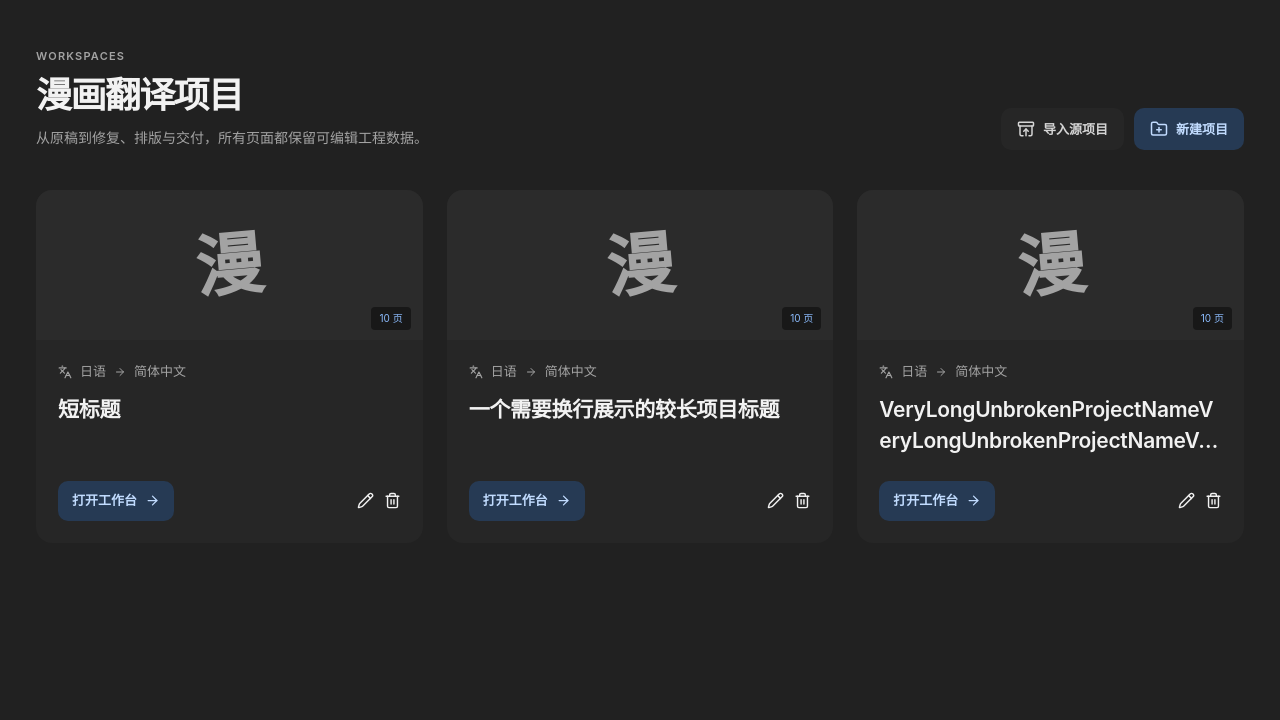
Scenario: project details › keeps the form and its draft when creating fails
Expected: the heading "短标题" is shown, [58, 396, 120, 422]
Click the button "新建项目" at (1189, 129), box [1134, 108, 1244, 150]
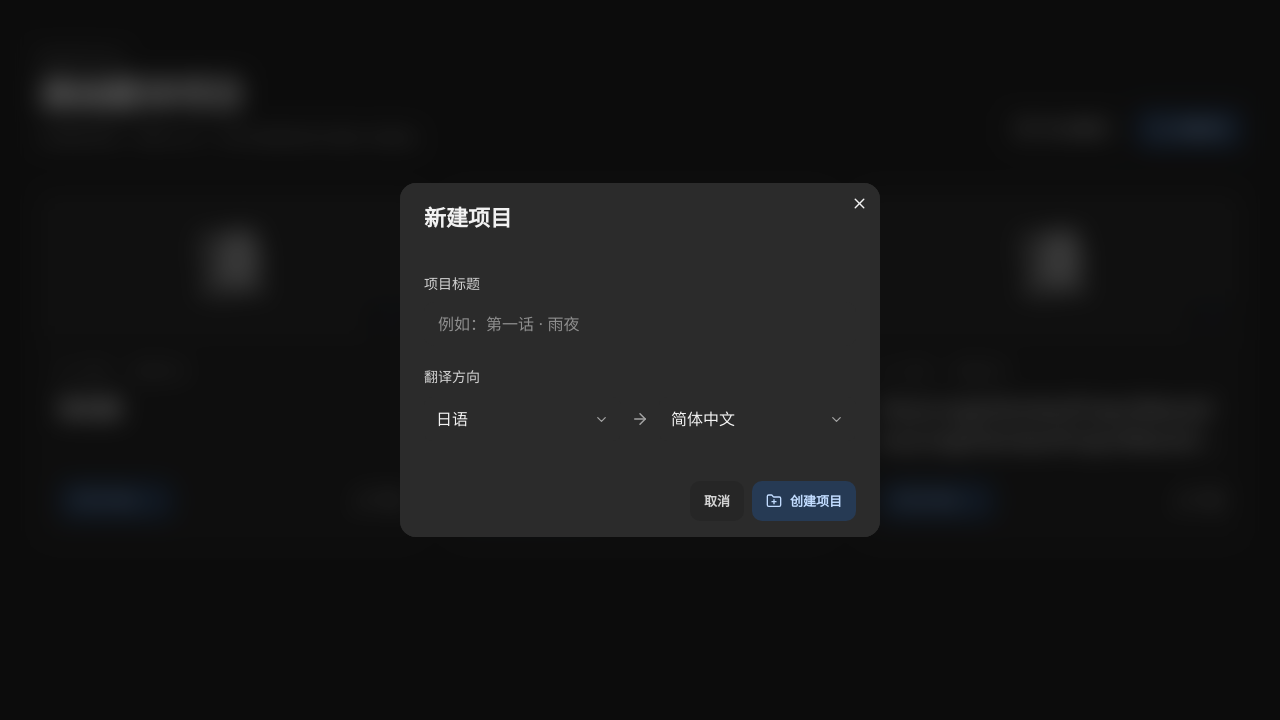
Type "保留标题" into the field labelled "项目标题" at (640, 324), box [424, 302, 856, 346]
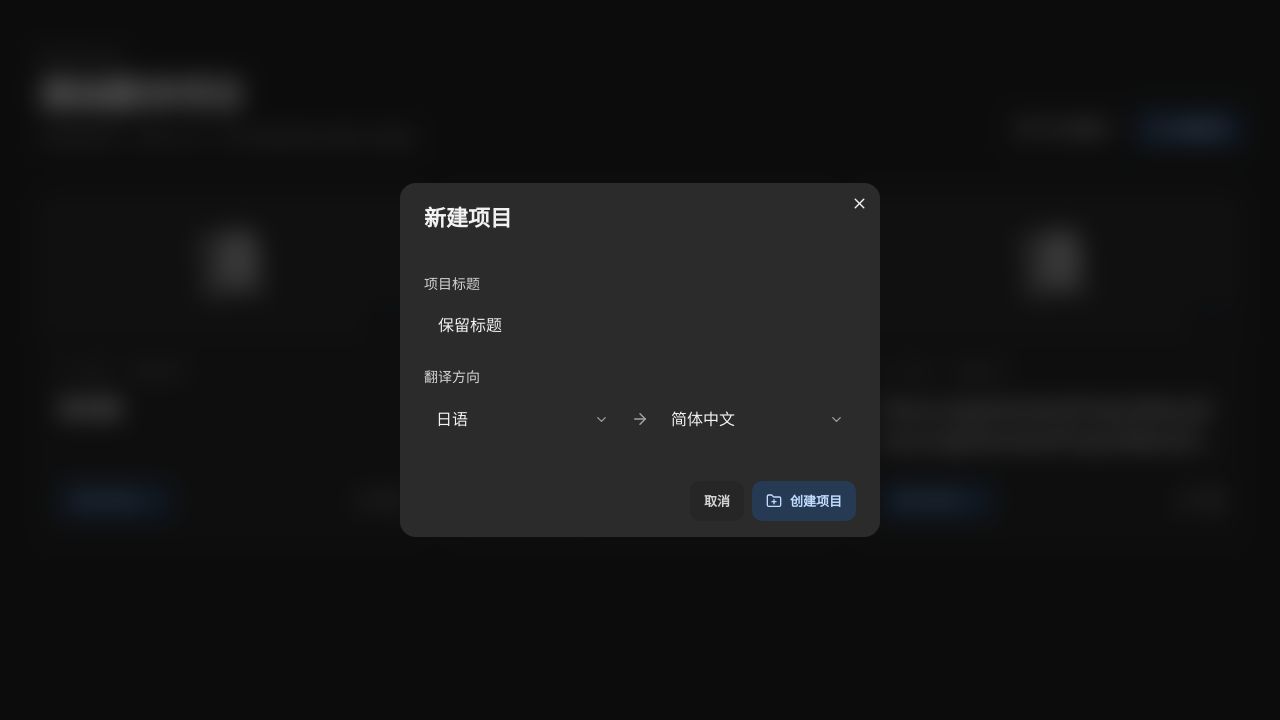
Click the button "创建项目" at (804, 501), box [752, 481, 856, 521]
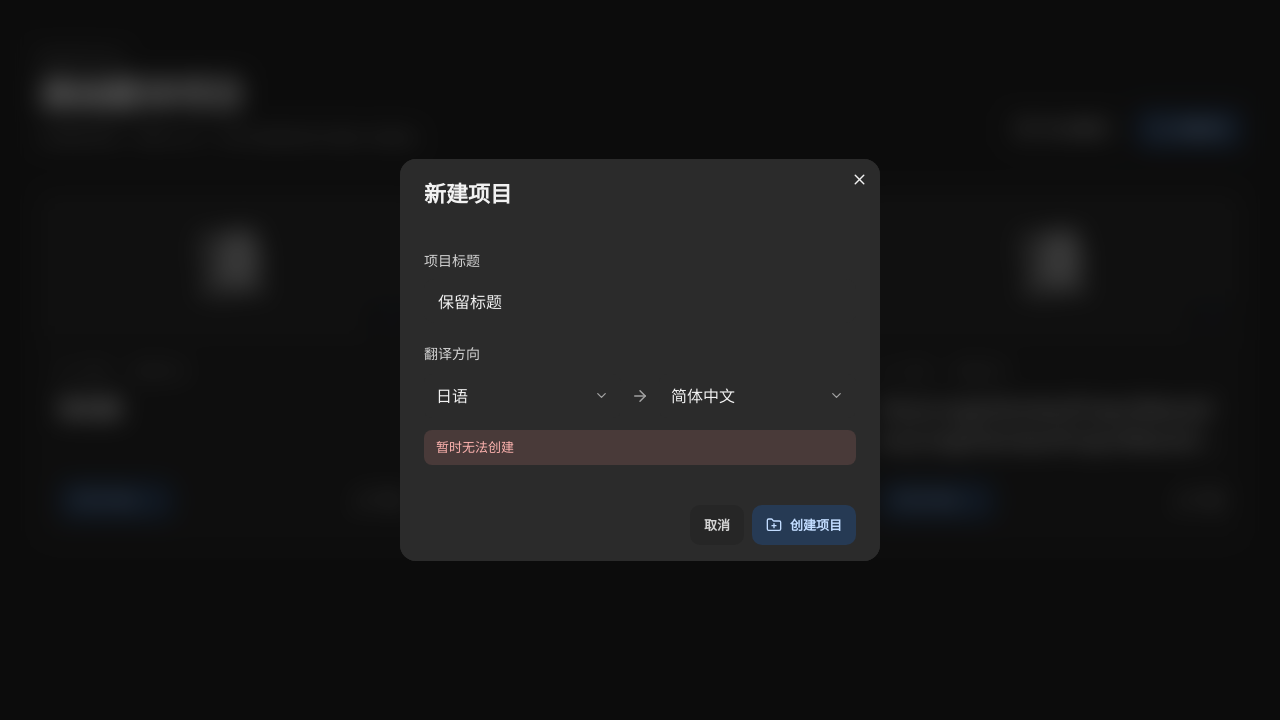
Expected: the button "创建项目" is enabled, [752, 505, 856, 545]
Expected: the button with aria-label "原文语言" reads "日语", [424, 374, 621, 418]
Expected: the message reads "暂时无法创建", [436, 439, 514, 455]
